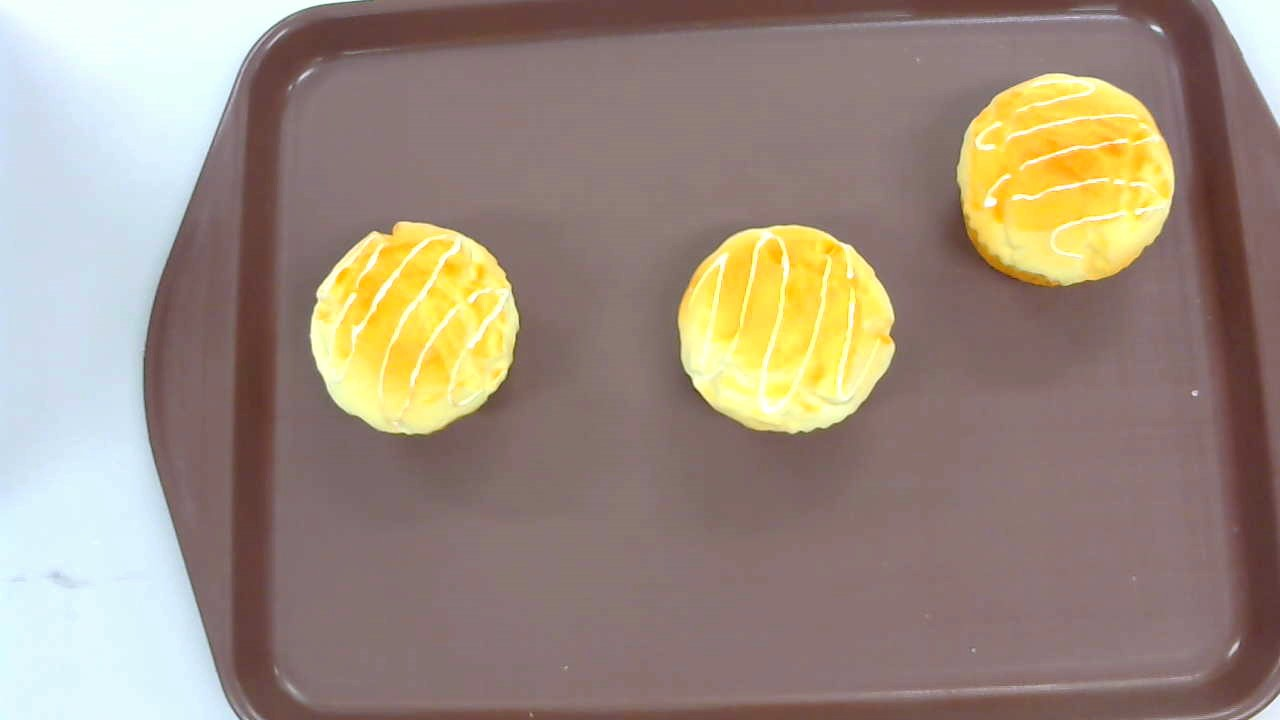cupcake: (957, 72, 1175, 288), (678, 223, 897, 434), (309, 222, 521, 435)
